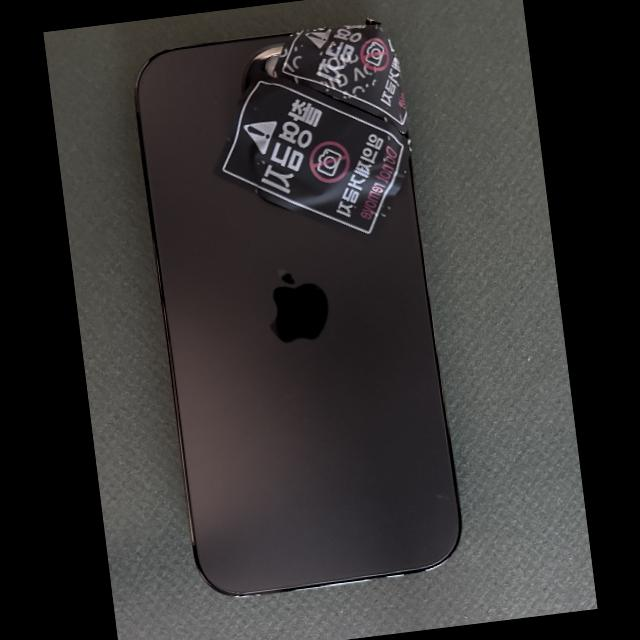phone: (131, 23, 462, 597)
sticker: (211, 70, 412, 238), (272, 18, 407, 133)
